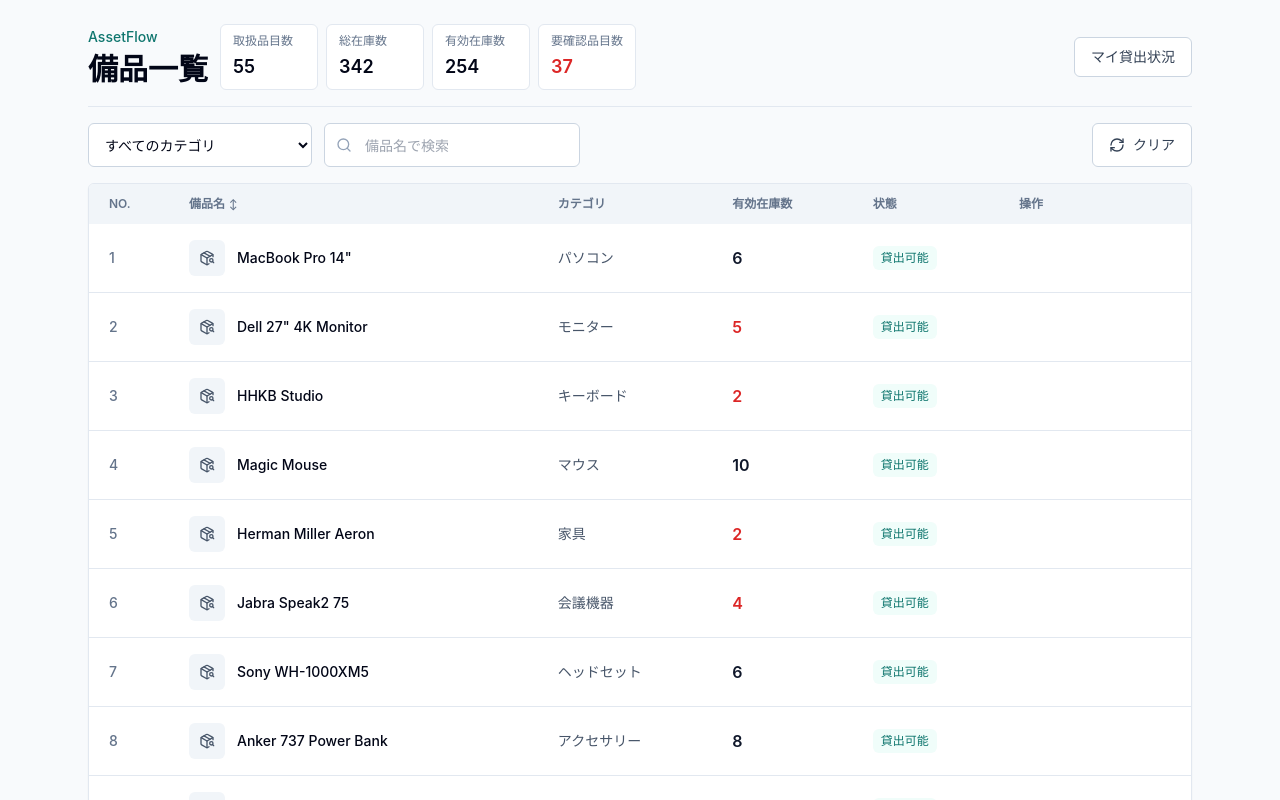
it: AssetListPage › 033: カテゴリでアクセサリーを選択すると該当する備品4件が表示される
Select "アクセサリー" in the dropdown named "カテゴリで絞り込み" at {"x": 200, "y": 145}, box [88, 123, 312, 167]
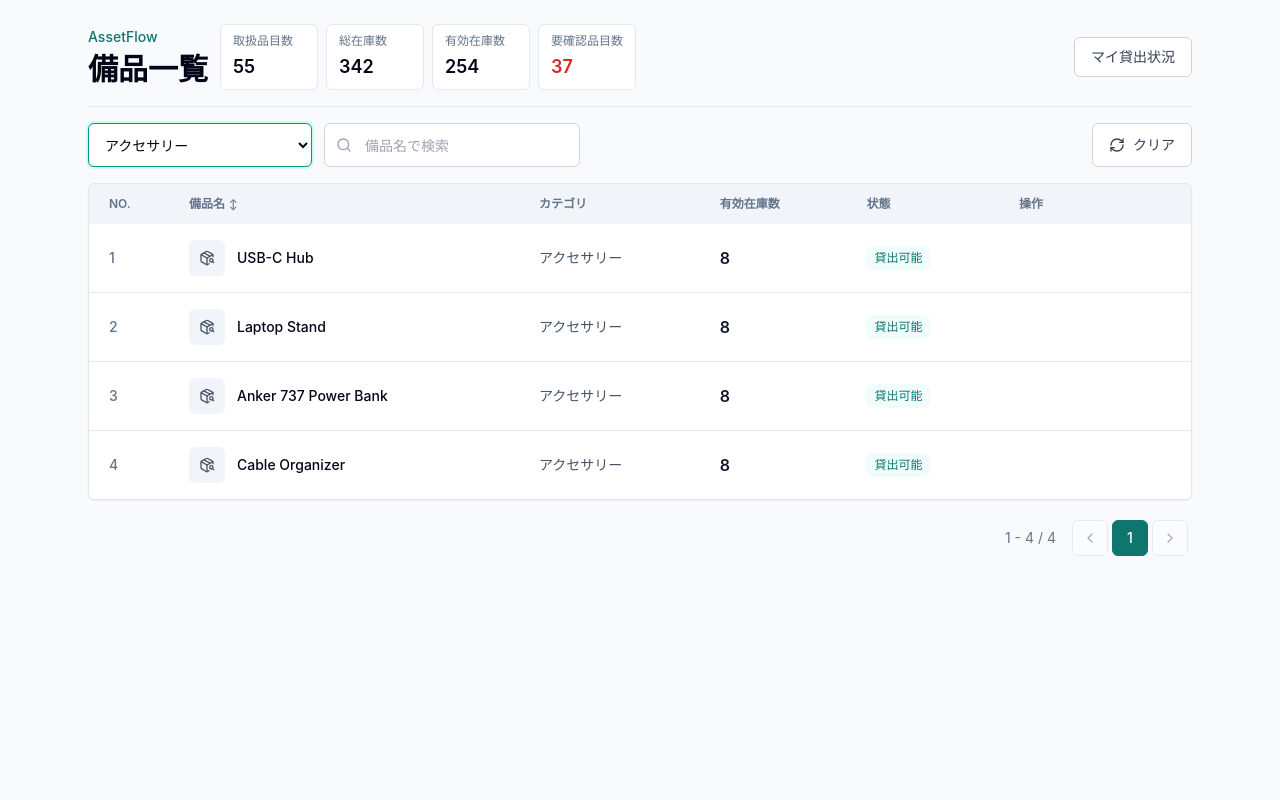
Expected: the text "1 - 4 / 4" is shown, [1005, 528, 1056, 548]
Expected: the text "USB-C Hub" is shown, [237, 248, 314, 268]
Expected: the text "Laptop Stand" is shown, [237, 317, 326, 337]
